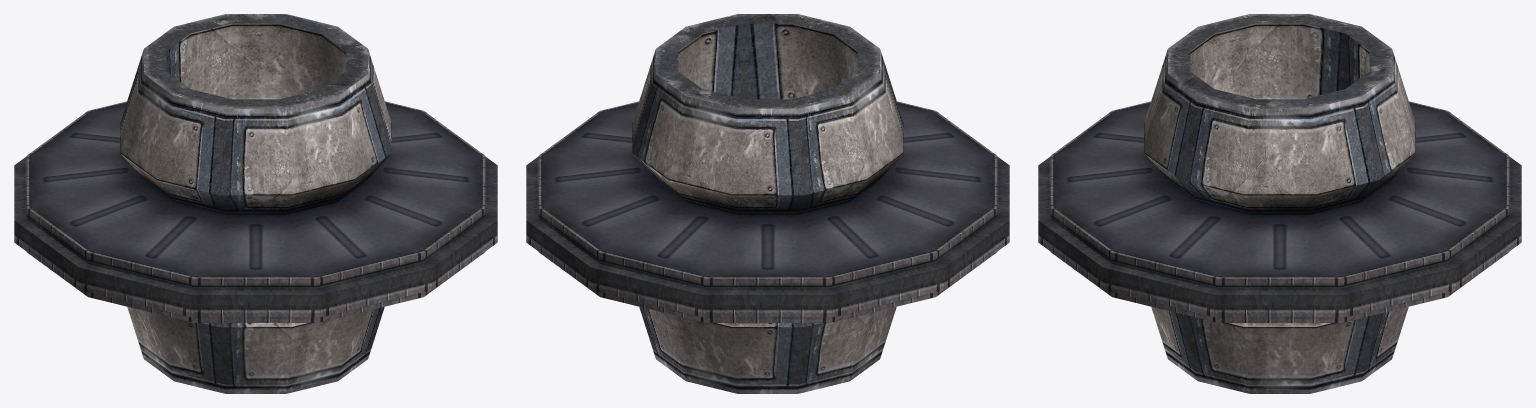
The model's file is kessel_mine_missileturret_main_s01_l0.fbx.
3 renders of one model, left to right at view 1: azimuth 30°, elevation 25°; view 2: azimuth 150°, elevation 25°; view 3: azimuth 270°, elevation 25°, orthographic.
Parts seen in each view (by area): view 1: mesh_node; view 2: mesh_node; view 3: mesh_node.
Part boxes in pixels (<box>): mesh_node: <box>14,14,497,393</box>; mesh_node: <box>526,14,1009,393</box>; mesh_node: <box>1038,14,1521,393</box>.
Bounding box in the file's own units: 9.37 × 6.1 × 9.37.
